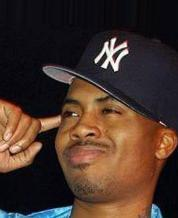face: (62, 97, 124, 164)
